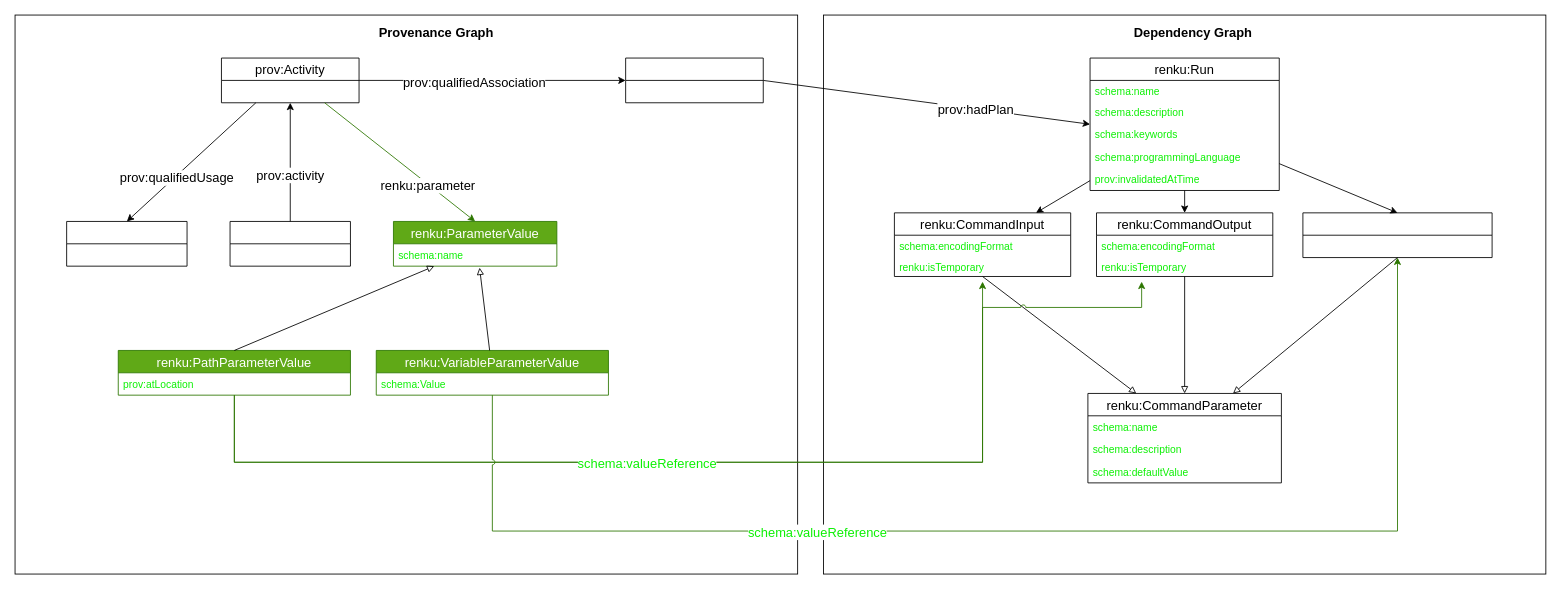
This 1561x589 diagram has some shape labels left out. The centre of each missing label's shape, as x and y in pixels:
"prov:Association" belongs at point (694, 80).
"prov:Generation" belongs at point (289, 243).
"prov:Usage" belongs at point (126, 243).
"renku:CommandArgument" belongs at point (1397, 235).
